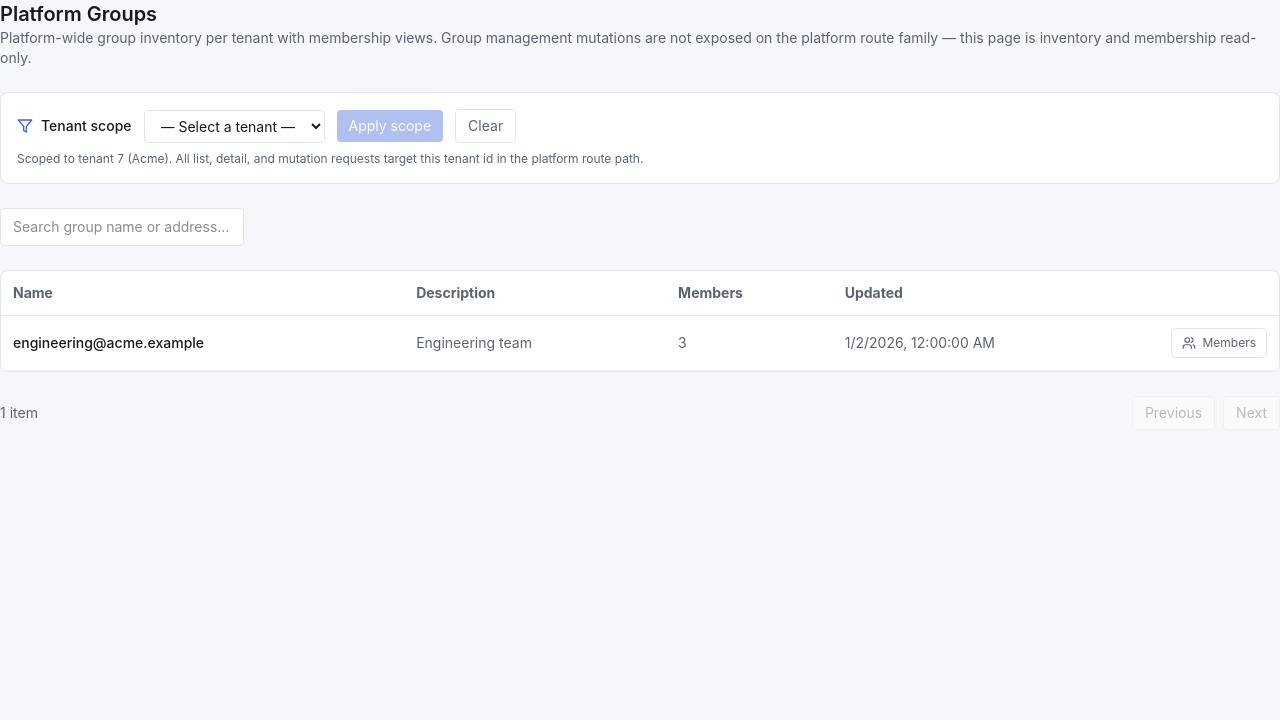
features/platform/groups › shows members via the platform members route
Check: the text "engineering@acme.example" is shown, box [1,316,404,370]
Click the button with aria-label "View members of engineering@acme.example".
click(1219, 343)  # box [1172,328,1267,358]
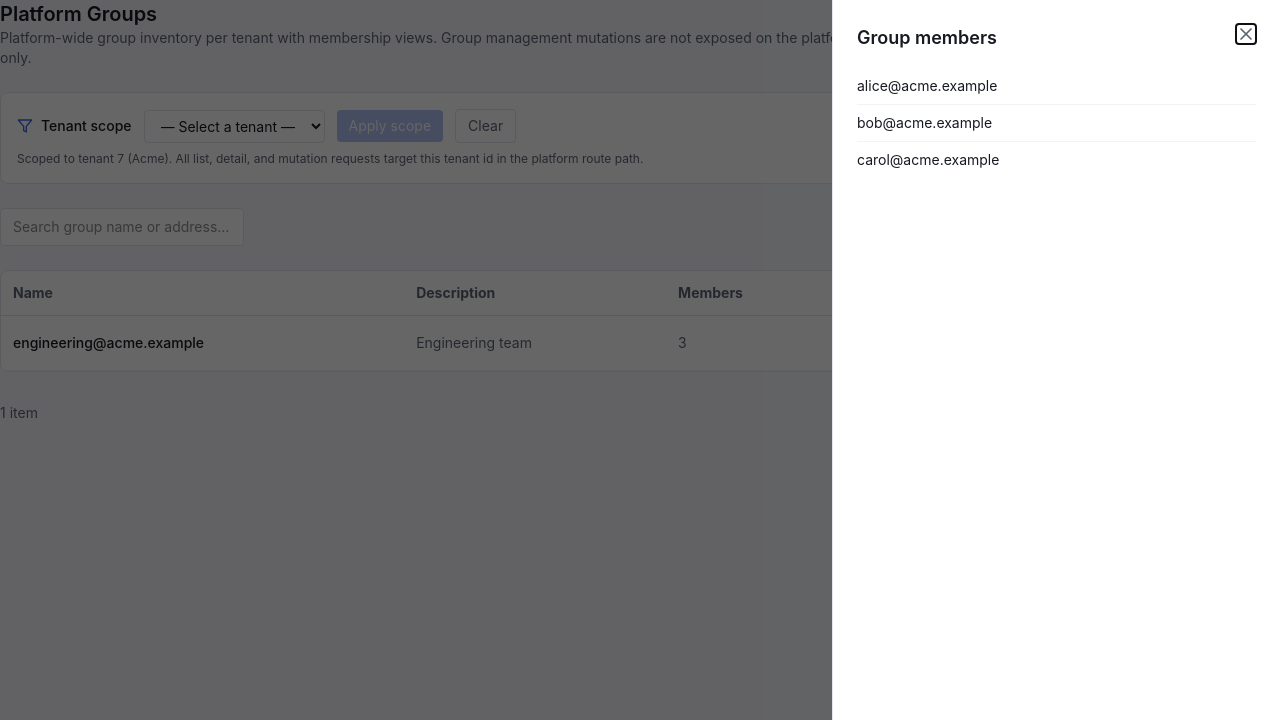
Check: the list item "alice@acme.example" is shown, box [857,68,1256,105]
Check: the list item "carol@acme.example" is shown, box [857,151,999,168]
